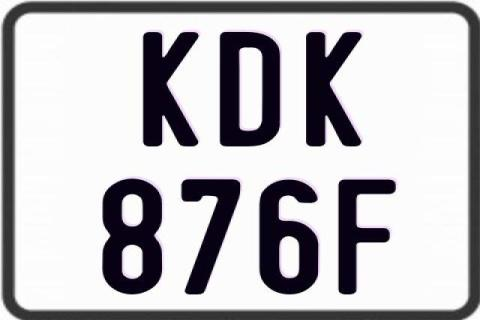0: (99, 177, 163, 297), (257, 178, 321, 298), (180, 178, 240, 298)
D: (221, 32, 284, 151)
F: (336, 177, 395, 297)
K: (140, 32, 201, 151), (306, 30, 365, 150)
